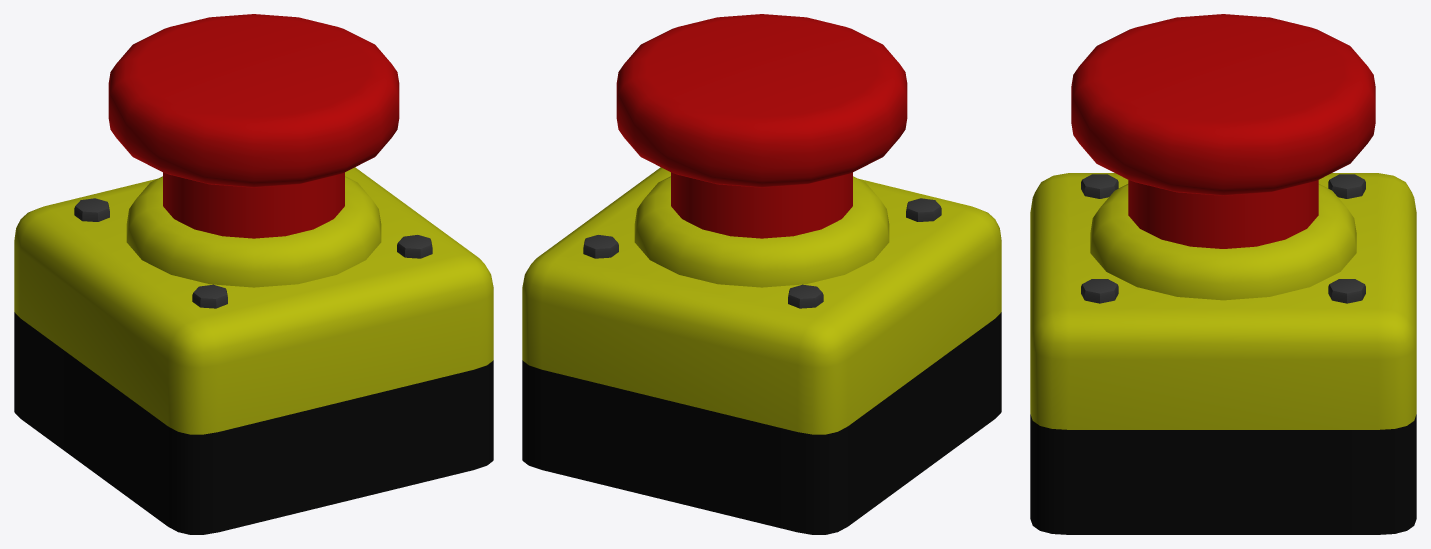
The model's file is Boton.fbx.
3 renders of one model, left to right at view 1: azimuth 30°, elevation 25°; view 2: azimuth 150°, elevation 25°; view 3: azimuth 270°, elevation 25°, orthographic. The views are drawn at different scales.
Visible parts, largest first — view 1: ButtonCase, buttonBase, ButtonHead, ButtonCaseBulb, ButtonStem, screw4, screw2, screw1; view 2: ButtonCase, buttonBase, ButtonHead, ButtonCaseBulb, ButtonStem, screw1, screw3, screw4; view 3: ButtonCase, ButtonHead, buttonBase, ButtonCaseBulb, ButtonStem, screw2, screw3, screw1, screw4.
Boxes of the visible parts, bbox=[...] form: ButtonCase: bbox=[14, 167, 493, 434]; buttonBase: bbox=[14, 312, 493, 534]; ButtonHead: bbox=[108, 14, 399, 187]; ButtonCaseBulb: bbox=[126, 176, 381, 287]; ButtonStem: bbox=[163, 172, 344, 238]; screw4: bbox=[74, 198, 109, 221]; screw2: bbox=[397, 235, 432, 258]; screw1: bbox=[192, 284, 227, 308]; ButtonCase: bbox=[522, 167, 1001, 434]; buttonBase: bbox=[522, 312, 1001, 534]; ButtonHead: bbox=[616, 14, 907, 187]; ButtonCaseBulb: bbox=[634, 176, 889, 287]; ButtonStem: bbox=[671, 172, 852, 238]; screw1: bbox=[906, 198, 941, 221]; screw3: bbox=[583, 235, 618, 258]; screw4: bbox=[788, 284, 823, 308]; ButtonCase: bbox=[1030, 173, 1416, 429]; ButtonHead: bbox=[1071, 14, 1375, 195]; buttonBase: bbox=[1030, 414, 1416, 534]; ButtonCaseBulb: bbox=[1090, 184, 1356, 300]; ButtonStem: bbox=[1128, 180, 1318, 248]; screw2: bbox=[1081, 279, 1118, 303]; screw3: bbox=[1328, 279, 1365, 303]; screw1: bbox=[1081, 174, 1118, 198]; screw4: bbox=[1328, 174, 1365, 198].
Size of the model in its own units: 19.69 by 21.56 by 19.69.
